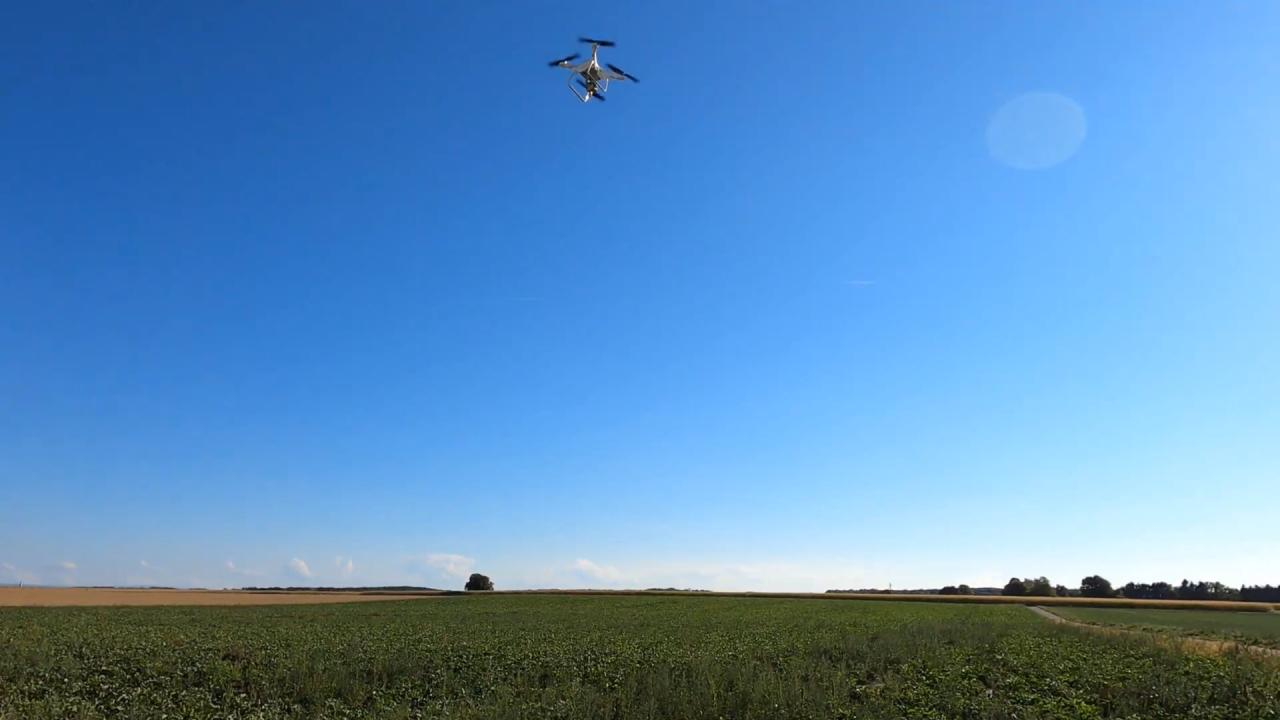Drone: (540, 28, 647, 113)
